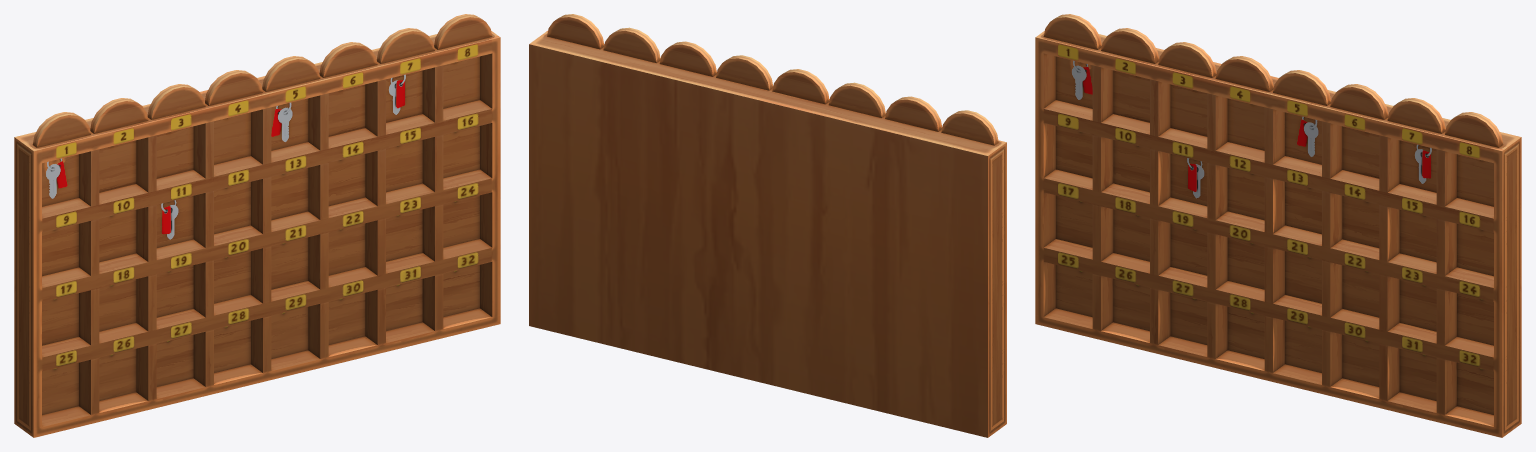
The model's file is OfficeKeysBoard01.FBX.
3 renders of one model, left to right at view 1: azimuth 30°, elevation 25°; view 2: azimuth 150°, elevation 25°; view 3: azimuth 330°, elevation 25°, orthographic.
Visible parts, largest first — view 1: OfficeKeysBoard01; view 2: OfficeKeysBoard01; view 3: OfficeKeysBoard01.
Part boxes in pixels (x1,y1,x2,y2): OfficeKeysBoard01: [14, 14, 500, 437]; OfficeKeysBoard01: [529, 14, 1006, 437]; OfficeKeysBoard01: [1035, 14, 1521, 437].
Size of what is drawn, in the model's own units: 2.26 by 1.45 by 0.162.
